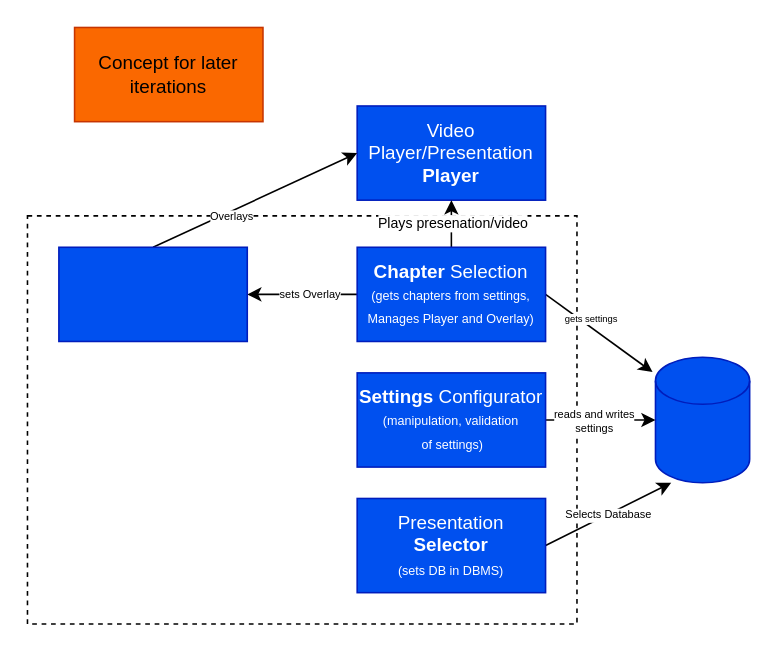
Some shapes in this 777 by 652 pixel diagram are drawn without their labels. The shapes that lost their labels are listed below. From the top down, each one's box as (x1, y1, x2, y2) in pixels, then its label:
(57, 246, 247, 341): Overlay Manager (if Powerpoint gets overlay from notes)
(654, 356, 750, 483): DBMS
